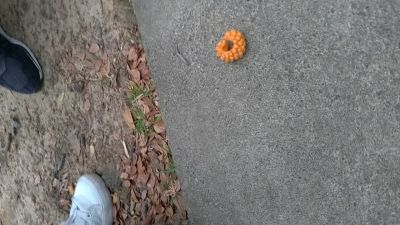eggs: (216, 30, 249, 62)
